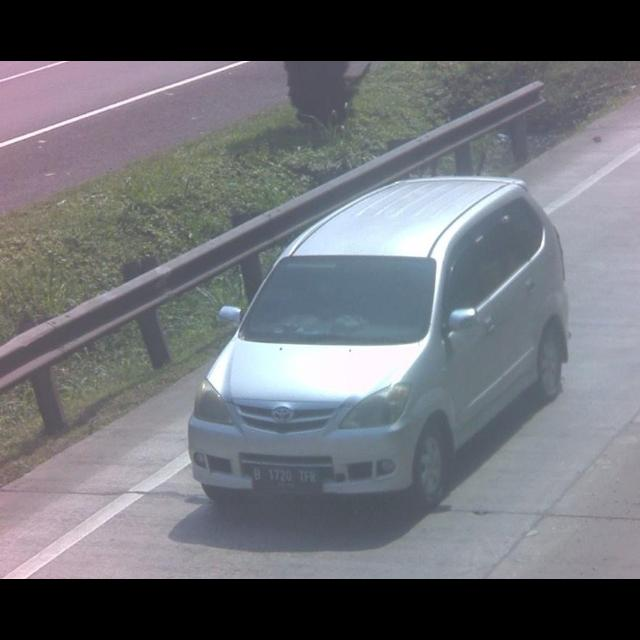plate: (248, 467, 324, 498)
